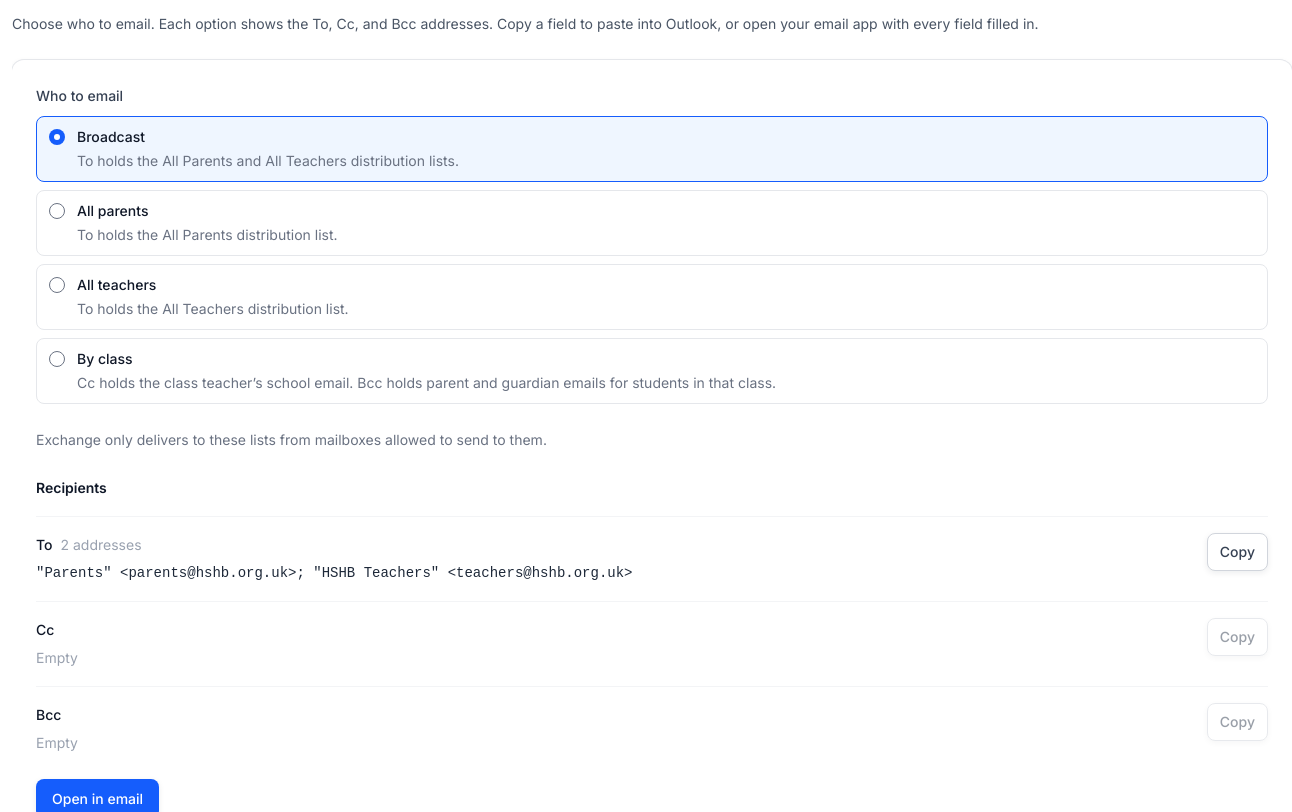
CommunicationPanel › puts only the teachers list in To
Click the radio button labelled "All teachers To holds the All Teachers distribution list.": (57, 285) [49,277,65,293]
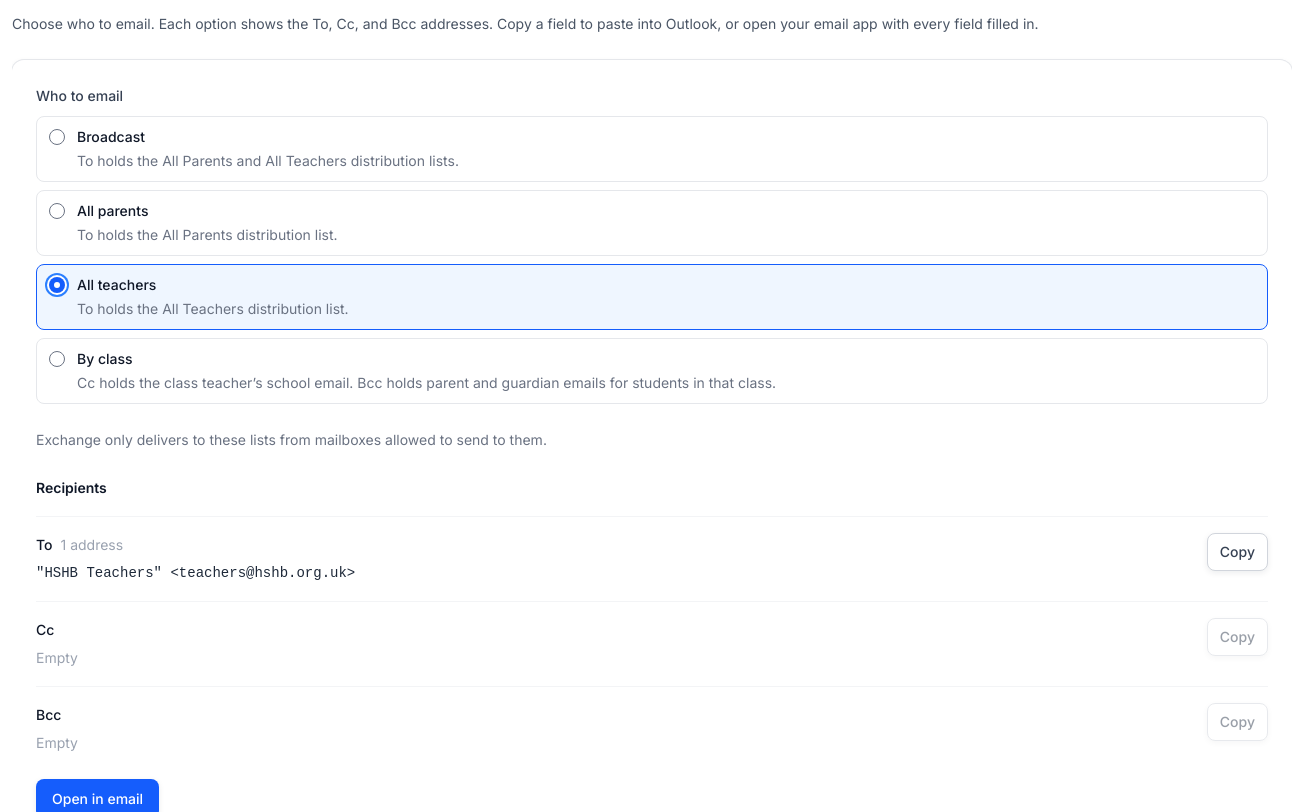
Check: the text "\"HSHB Teachers\" <teachers@hshb.org.uk>" is shown, box [36,561,355,585]
Check: the text "\"Parents\" <parents@hshb.org.uk>" is gone
